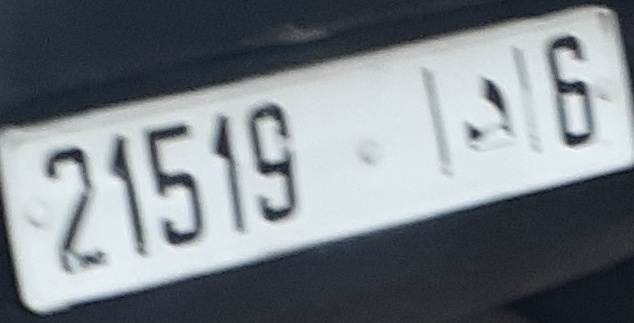1: (107, 134, 153, 261), (206, 108, 245, 236)
2: (41, 144, 108, 278)
5: (144, 122, 205, 246)
6: (544, 33, 601, 151)
9: (244, 101, 300, 225)
d: (459, 74, 520, 154)
